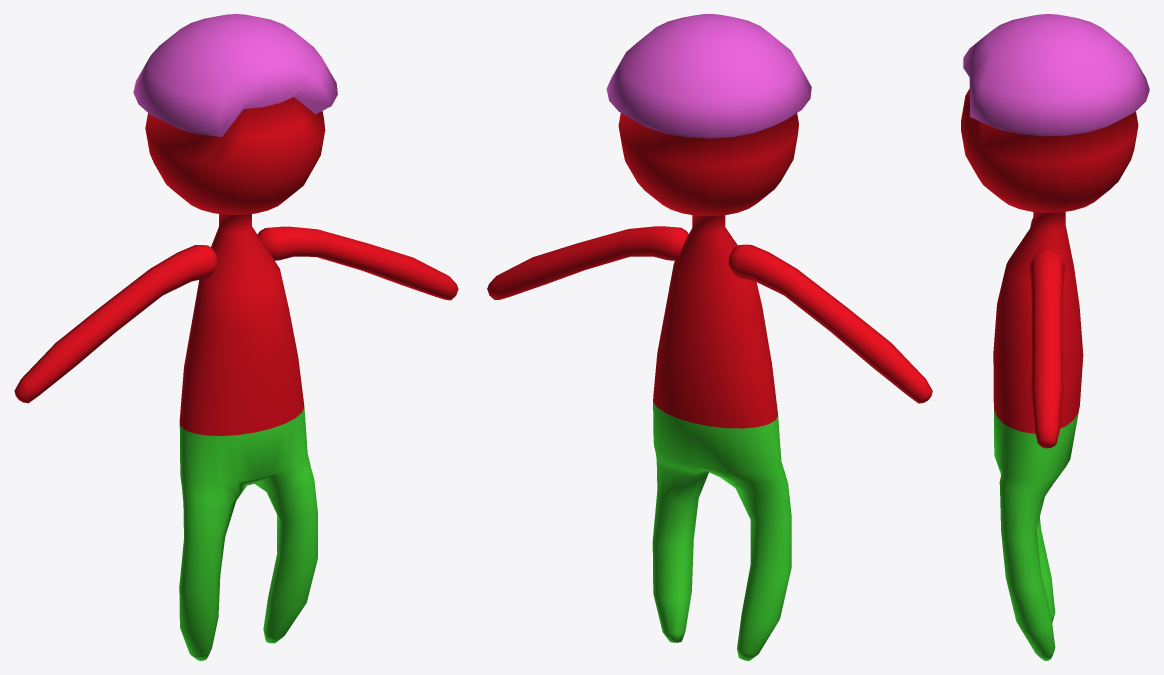
The model's file is commesso.fbx.
3 views of the same model, side by side, from view 1: azimuth 30°, elevation 25°; view 2: azimuth 150°, elevation 25°; view 3: azimuth 270°, elevation 25° (orthographic).
Visible parts, largest first — view 1: Sphere; view 2: Sphere; view 3: Sphere.
Boxes of the visible parts, bbox=[...] form: Sphere: bbox=[14, 14, 458, 660]; Sphere: bbox=[487, 14, 932, 660]; Sphere: bbox=[961, 14, 1149, 660].
Bounding box in the file's own units: 393 × 533 × 148.
